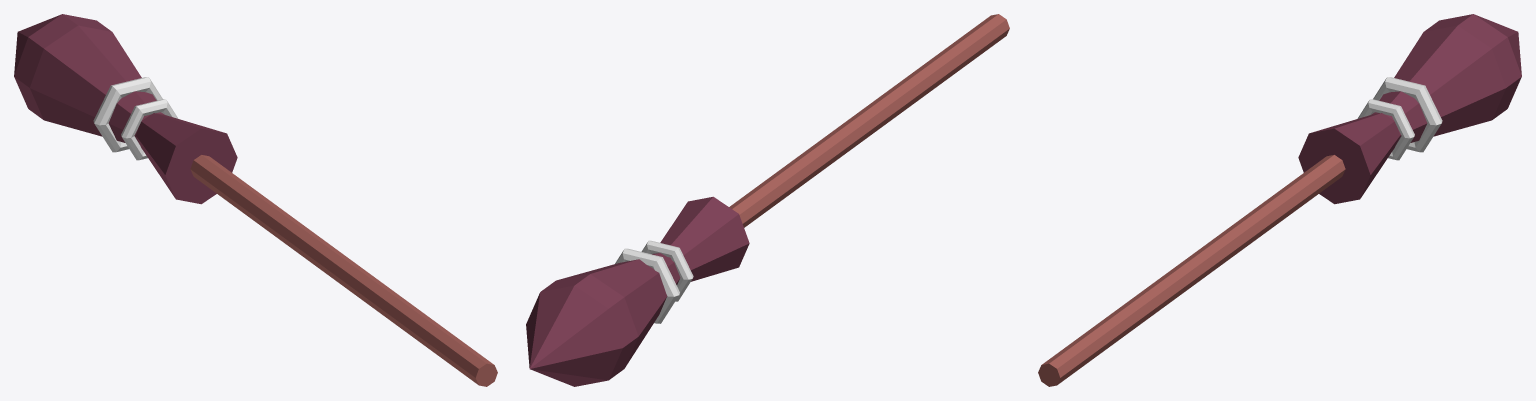
Rendered from broomstick.fbx.
3 views of the same model, side by side, from view 1: azimuth 30°, elevation 25°; view 2: azimuth 150°, elevation 25°; view 3: azimuth 330°, elevation 25° (orthographic).
Parts seen in each view (by area): view 1: Cylinder.001, Cylinder, Torus.001; view 2: Cylinder.001, Cylinder, Torus.001; view 3: Cylinder.001, Cylinder, Torus.001.
Boxes of the visible parts, x1,y1,x2,y2 form: Cylinder.001: (14, 14, 237, 204); Cylinder: (190, 155, 497, 386); Torus.001: (93, 77, 178, 160); Cylinder.001: (526, 196, 749, 386); Cylinder: (729, 14, 1009, 227); Torus.001: (615, 240, 693, 323); Cylinder.001: (1298, 14, 1521, 204); Cylinder: (1038, 155, 1345, 386); Torus.001: (1357, 77, 1442, 160).
Size of the model in its own units: 207 by 207 by 1732.
